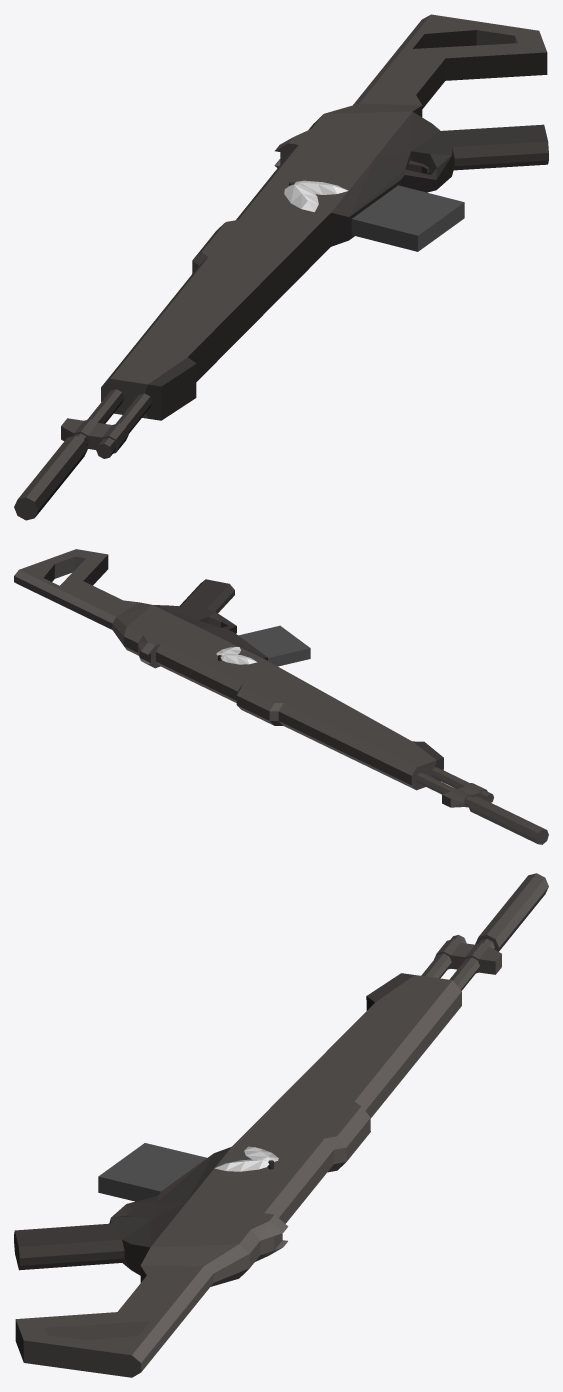
The model's file is guardian.gltf.
3 views of the same model, one above another, from view 1: azimuth 90°, elevation 25°; view 2: azimuth 150°, elevation 25°; view 3: azimuth 270°, elevation 25° (orthographic). The views are drawn at different scales.
Visible parts, largest first — view 1: guardian.001; view 2: guardian.001; view 3: guardian.001.
Part boxes in pixels (x1,y1,x2,y2): guardian.001: (14,14,548,520); guardian.001: (14,549,548,844); guardian.001: (14,873,548,1377).
Size of the model in its own units: 0.975 by 0.0405 by 0.4539.
Materials: 1 (1 with a texture image).
